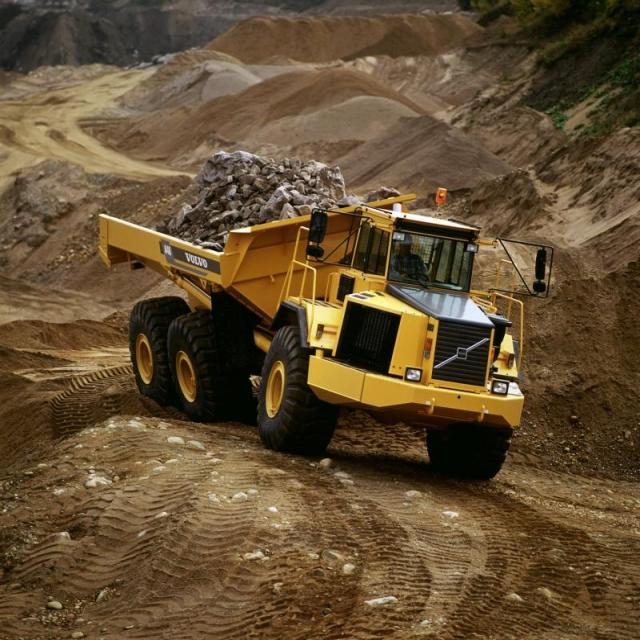dump_truck: (109, 141, 556, 484)
